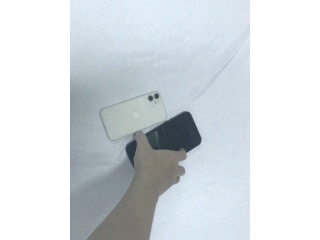phone: (125, 111, 202, 168), (99, 91, 167, 142)
